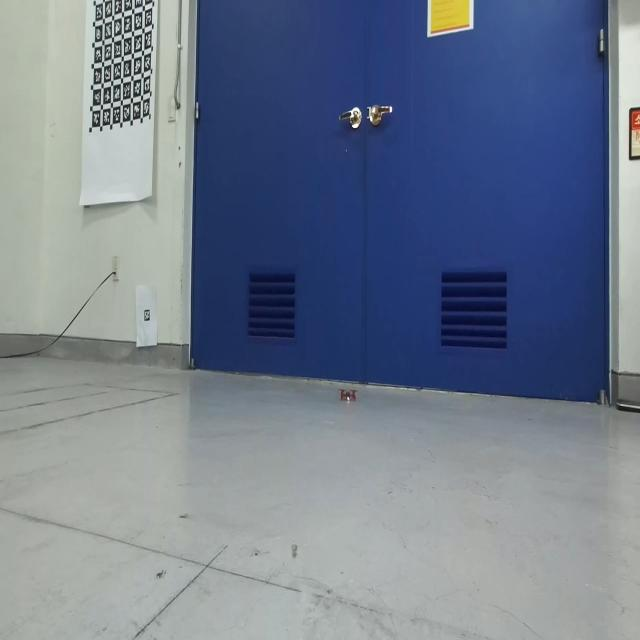crazyflie: (338, 386, 360, 404)
